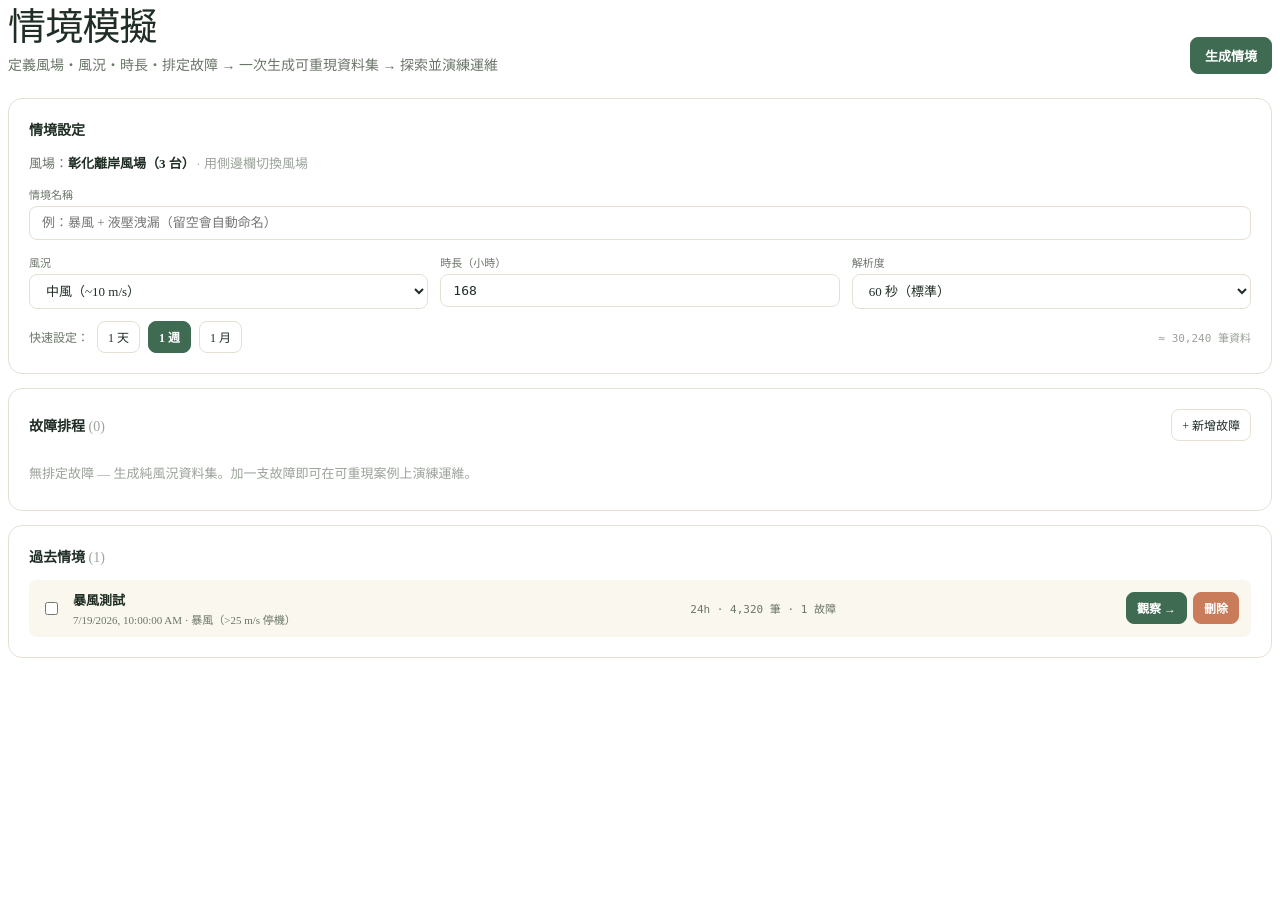
Test: ScenarioPage — 故障排程增刪 › 點「✕」移除該列 → 回空狀態
Click the button "+ 新增故障": click(1211, 425) [1171, 409, 1251, 441]
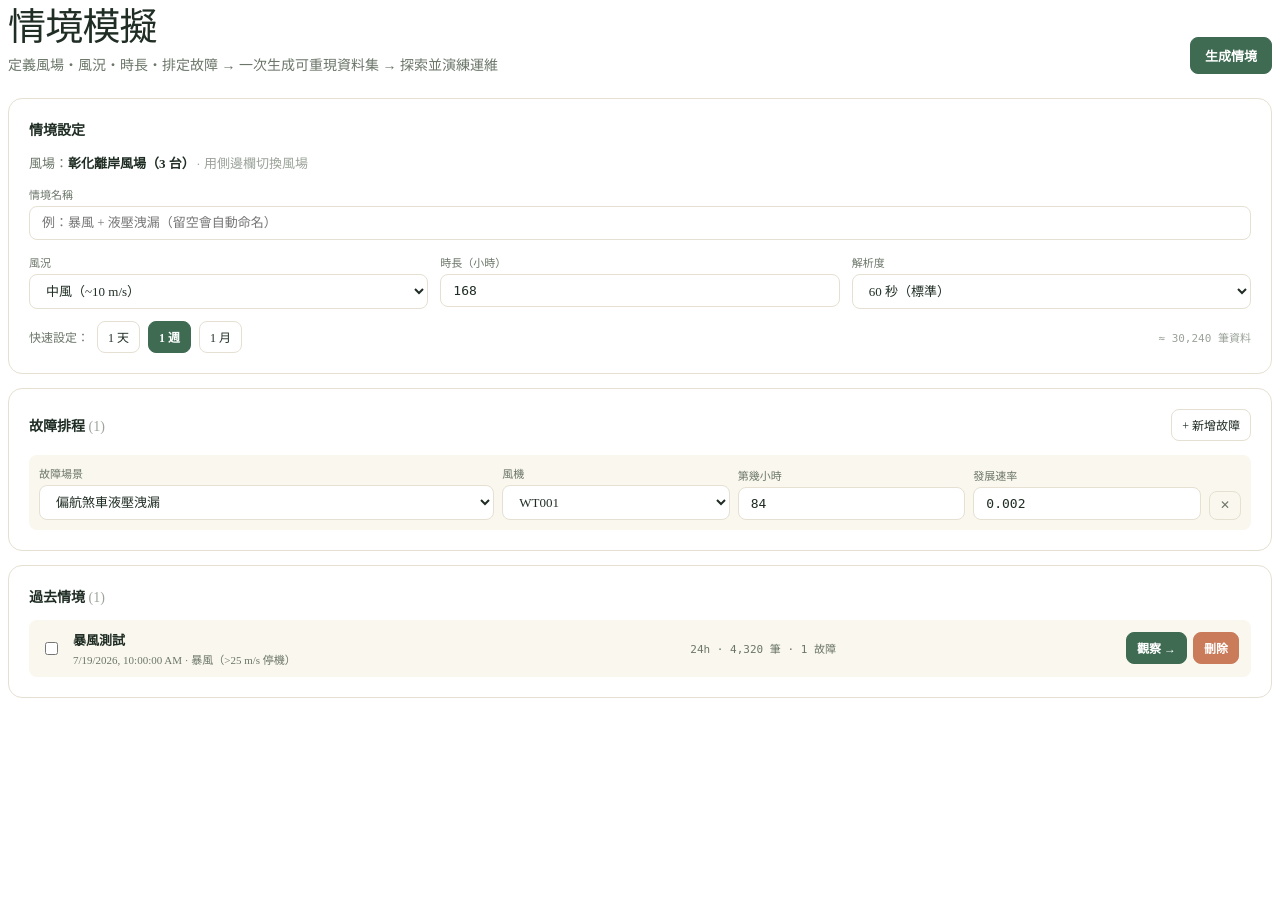
Click the button named "移除故障": click(1225, 505) [1209, 491, 1241, 520]
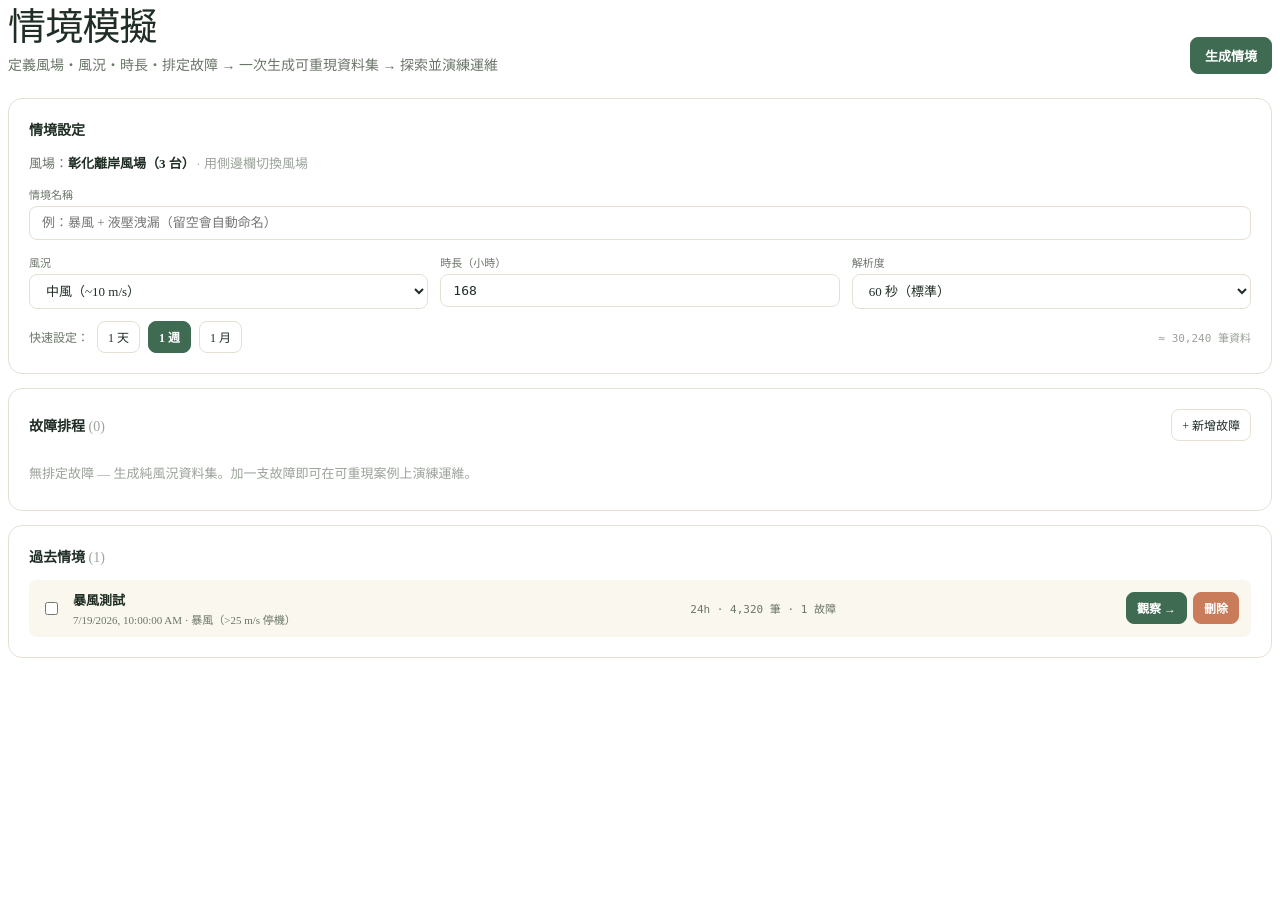
Expected: the text "無排定故障 — 生成純風況資料集。加一支故障即可在可重現案例上演練運維。" is shown, [29, 466, 478, 481]
